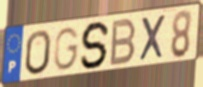8: (170, 8, 193, 60)
B: (108, 16, 138, 68)
G: (53, 26, 81, 73)
O: (25, 28, 53, 77)
S: (79, 20, 112, 71)
X: (138, 12, 167, 63)
